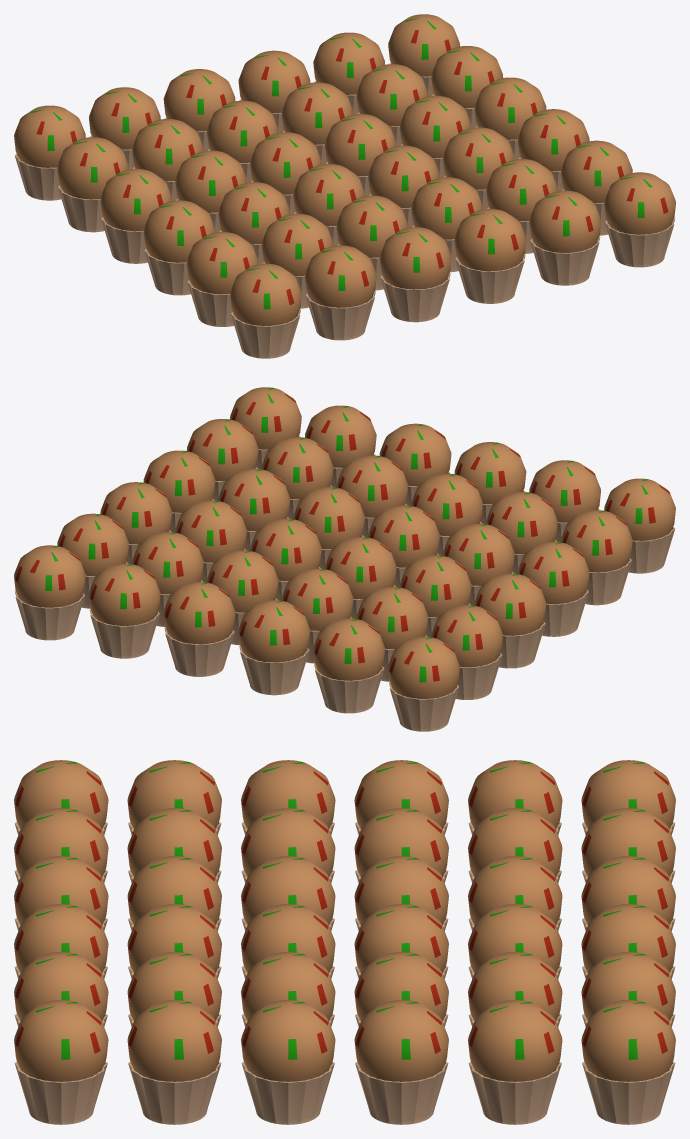
The model's file is cupcake-tray.glb.
3 renders of one model, top to bottom at view 1: azimuth 30°, elevation 25°; view 2: azimuth 150°, elevation 25°; view 3: azimuth 270°, elevation 25°, orthographic. The views are drawn at different scales.
Parts seen in each view (by area): view 1: Object_25; view 2: Object_25; view 3: Object_25.
Part boxes in pixels (<box>): Object_25: <box>14,14,675,358</box>; Object_25: <box>14,387,675,731</box>; Object_25: <box>14,760,675,1124</box>.
Size of the model in its own units: 0.6375 by 0.1118 by 0.6375.
Materials: 1 (1 with a texture image).
